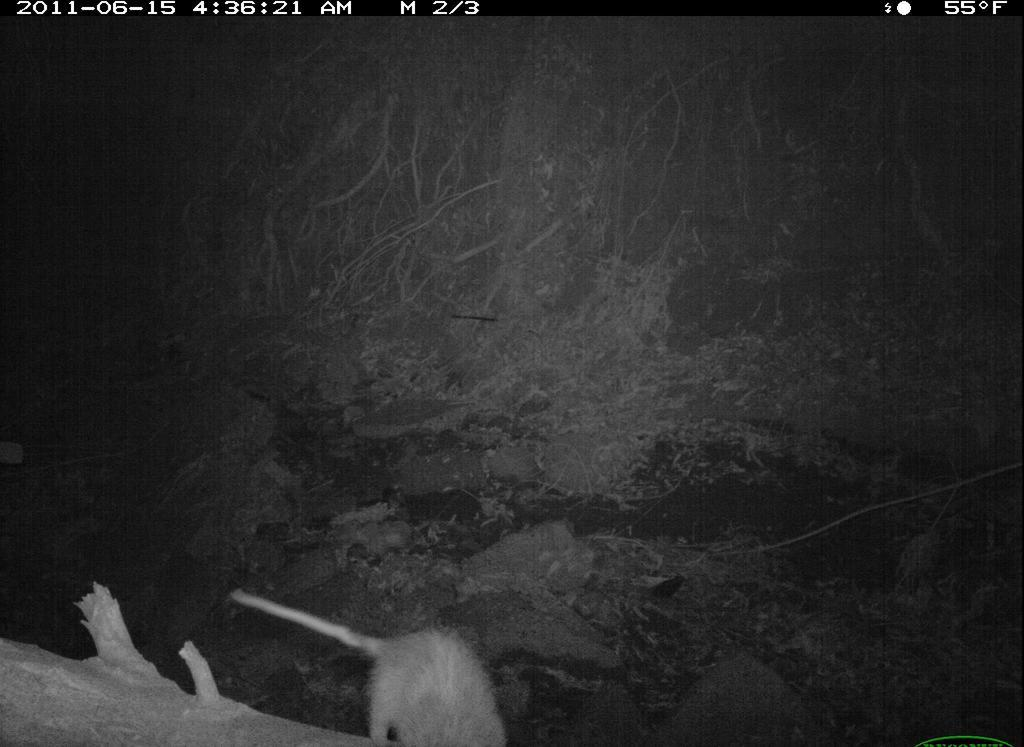opossum: (230, 568, 529, 745)
